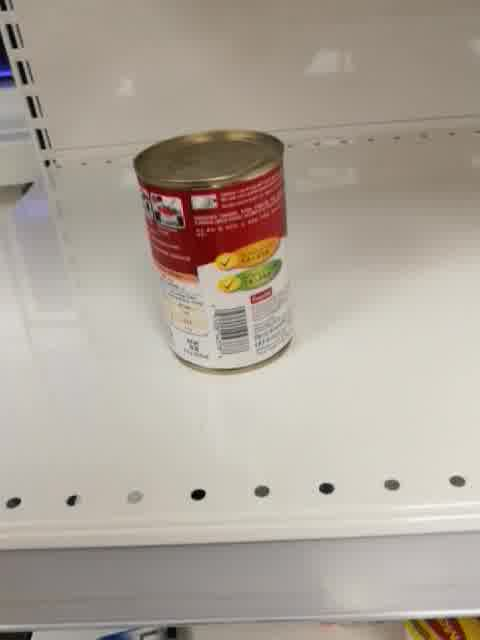tomatosoup: (131, 127, 294, 377)
